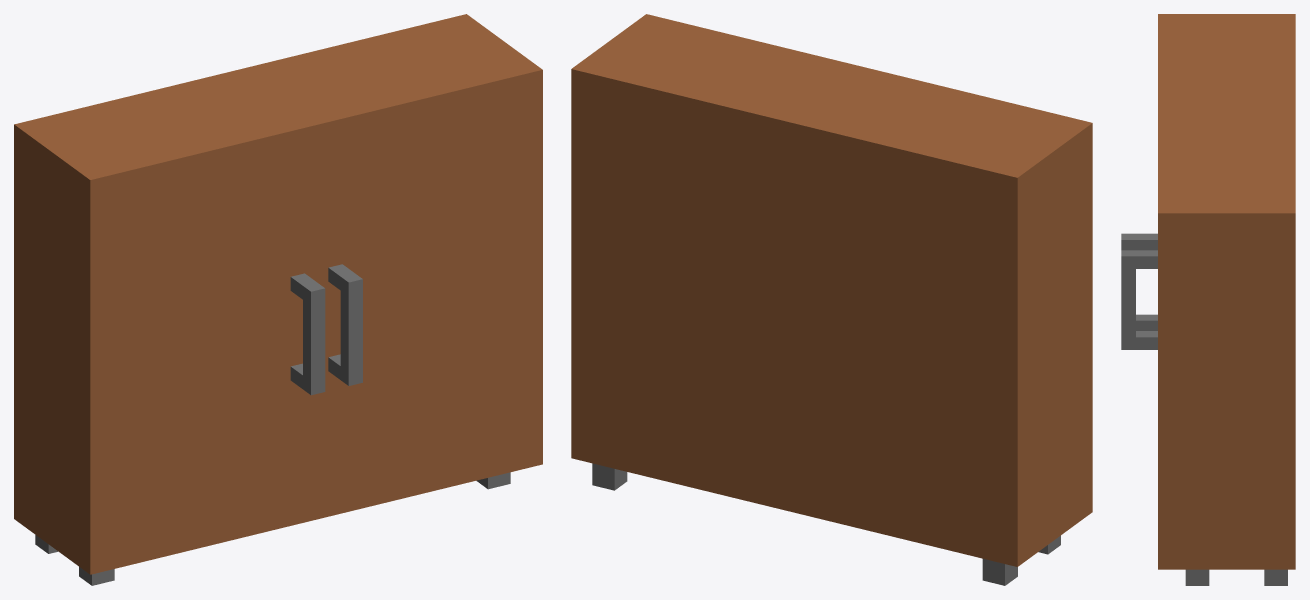
The model's file is Container_Cabinet.fbx.
3 renders of one model, left to right at view 1: azimuth 30°, elevation 25°; view 2: azimuth 150°, elevation 25°; view 3: azimuth 270°, elevation 25°, orthographic. The views are drawn at different scales.
Parts seen in each view (by area): view 1: Cabinet; view 2: Cabinet; view 3: Cabinet.
Part boxes in pixels (left/top/right/bottom): Cabinet: left=14, top=14, right=542, bottom=585; Cabinet: left=571, top=14, right=1092, bottom=585; Cabinet: left=1121, top=14, right=1295, bottom=585.
Size of the model in its own units: 480 by 177 by 427.
